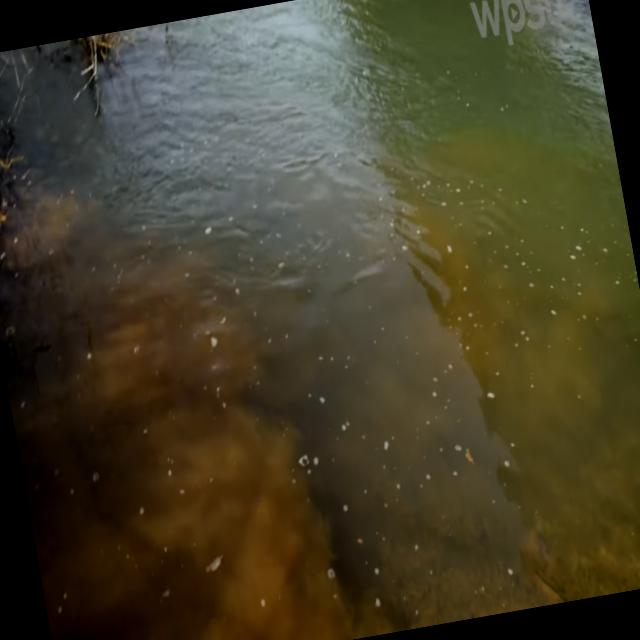yellow_boy: (0, 162, 566, 640)
